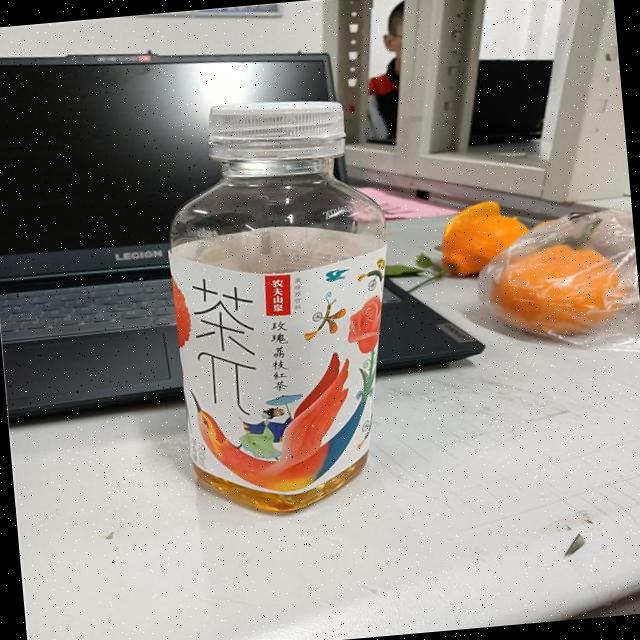orange-peel: (435, 187, 630, 347), (483, 235, 629, 342), (436, 195, 532, 278)
